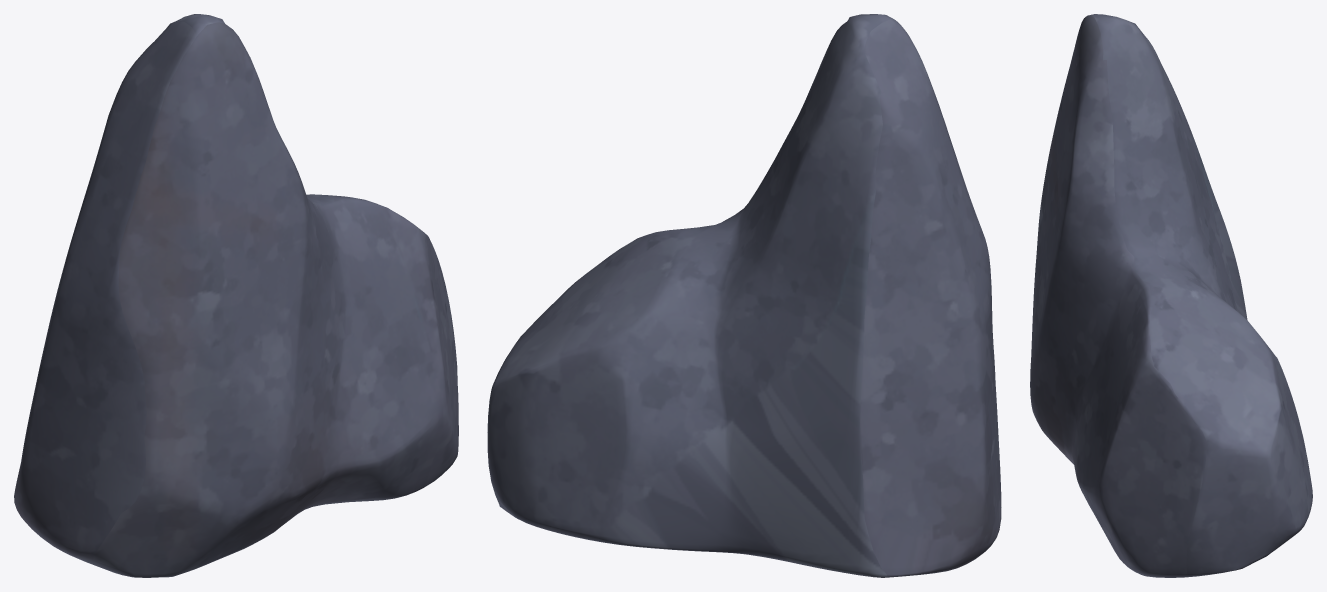
Rendered from StylizedRockLargePointy1.fbx.
3 renders of one model, left to right at view 1: azimuth 30°, elevation 25°; view 2: azimuth 150°, elevation 25°; view 3: azimuth 270°, elevation 25°, orthographic. The views are drawn at different scales.
Parts seen in each view (by area): view 1: StylizedRockLargePointy1; view 2: StylizedRockLargePointy1; view 3: StylizedRockLargePointy1.
Part boxes in pixels (x1=…): StylizedRockLargePointy1: x1=14, y1=14, x2=458, y2=577; StylizedRockLargePointy1: x1=487, y1=14, x2=1001, y2=577; StylizedRockLargePointy1: x1=1030, y1=14, x2=1312, y2=577.
Size of the model in its own units: 405 by 454 by 258.
